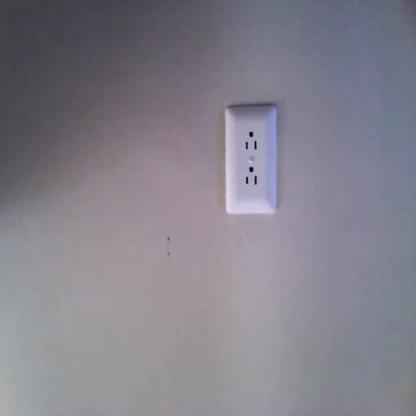OUTLET: (223, 104, 278, 214)
